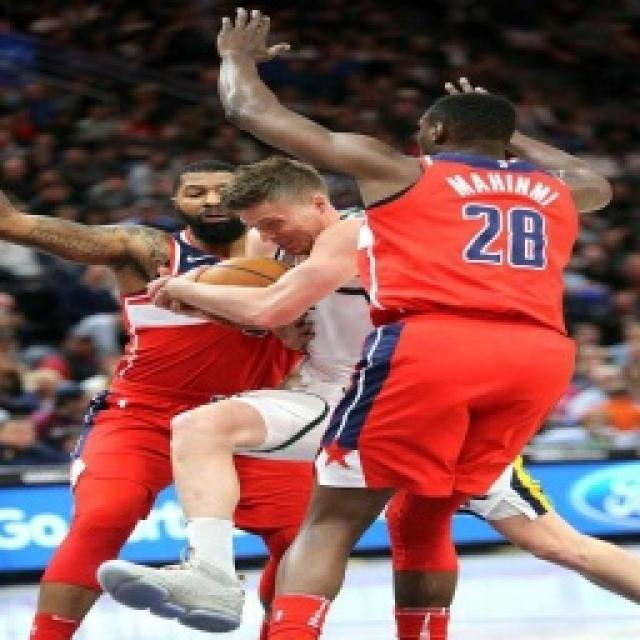rim: (202, 260, 292, 318)
